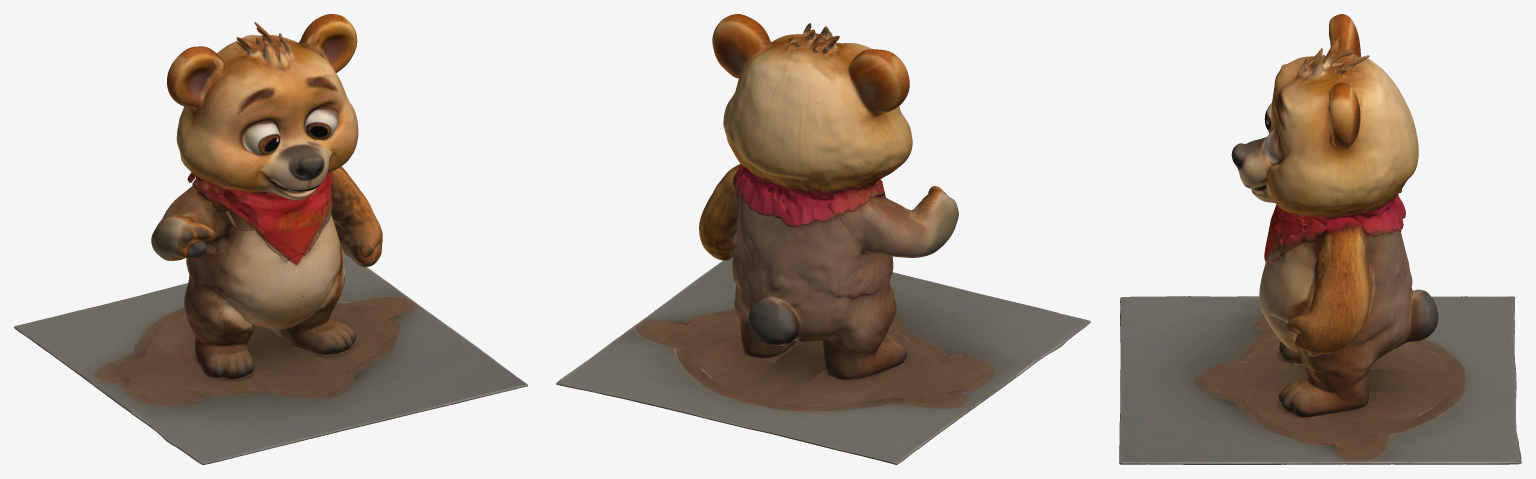
The model's file is buddy-model.glb.
The picture shows the model from 3 angles, left to right: view 1: azimuth 30°, elevation 25°; view 2: azimuth 150°, elevation 25°; view 3: azimuth 270°, elevation 25°; orthographic projection. The views are drawn at different scales.
Size of the model in its own units: 2.02 by 1.87 by 2.04.
1 material, 1 textured.
